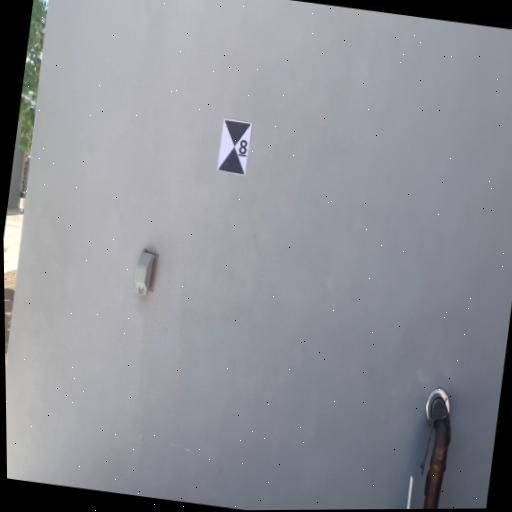target8: (216, 118, 252, 176)
